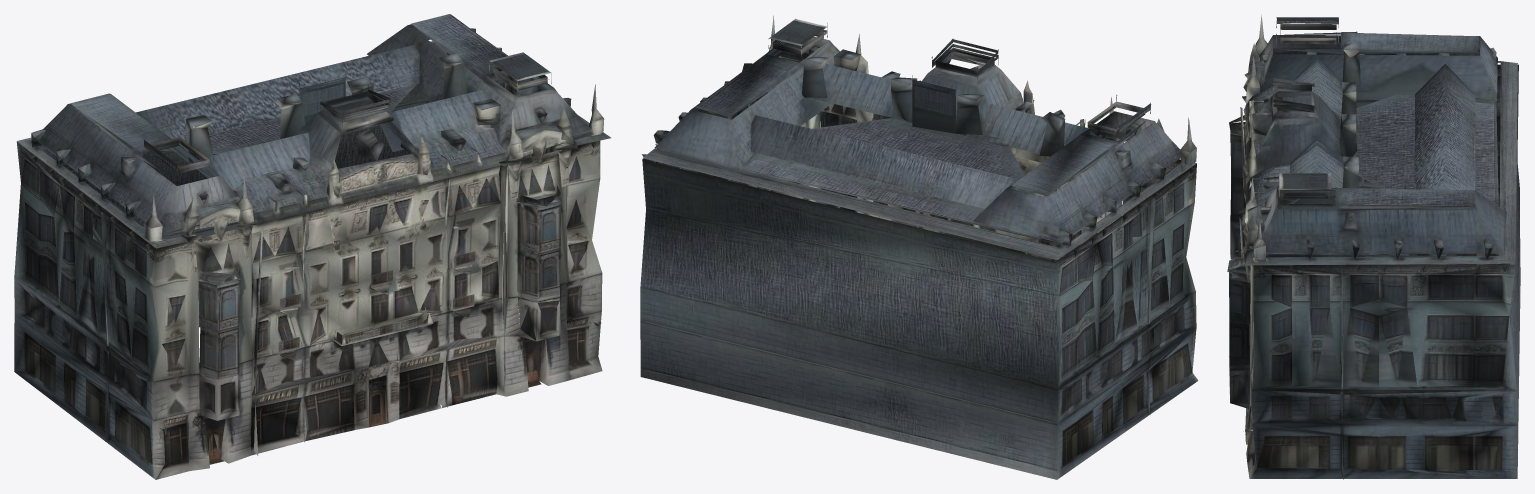
The model's file is spb_r6.glb.
3 views of the same model, side by side, from view 1: azimuth 30°, elevation 25°; view 2: azimuth 150°, elevation 25°; view 3: azimuth 270°, elevation 25° (orthographic). The views are drawn at different scales.
Visible parts, largest first — view 1: tripo_node_861babf4; view 2: tripo_node_861babf4; view 3: tripo_node_861babf4.
Boxes of the visible parts, box(x1,y1,x2,y2) form: tripo_node_861babf4: box(14, 14, 610, 479); tripo_node_861babf4: box(640, 15, 1198, 479); tripo_node_861babf4: box(1227, 15, 1520, 479).
Bounding box in the file's own units: 0.9892 × 0.6428 × 0.5883.
1 material, 1 textured.
